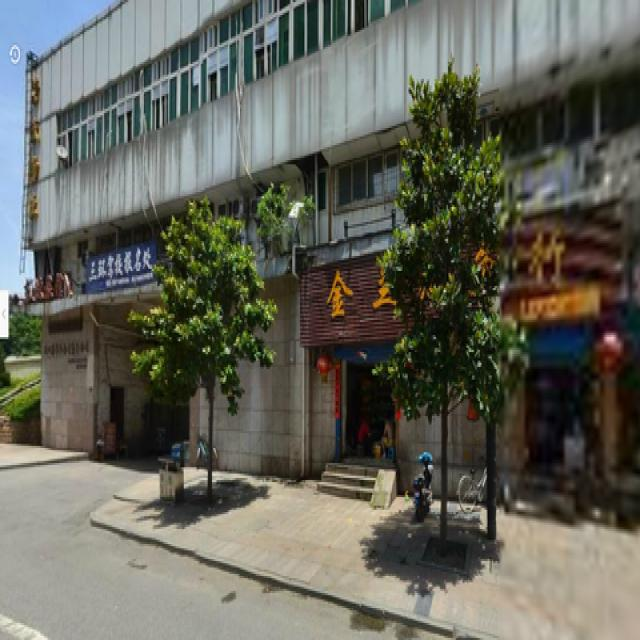magn: (392, 72, 505, 568), (127, 196, 273, 531)
